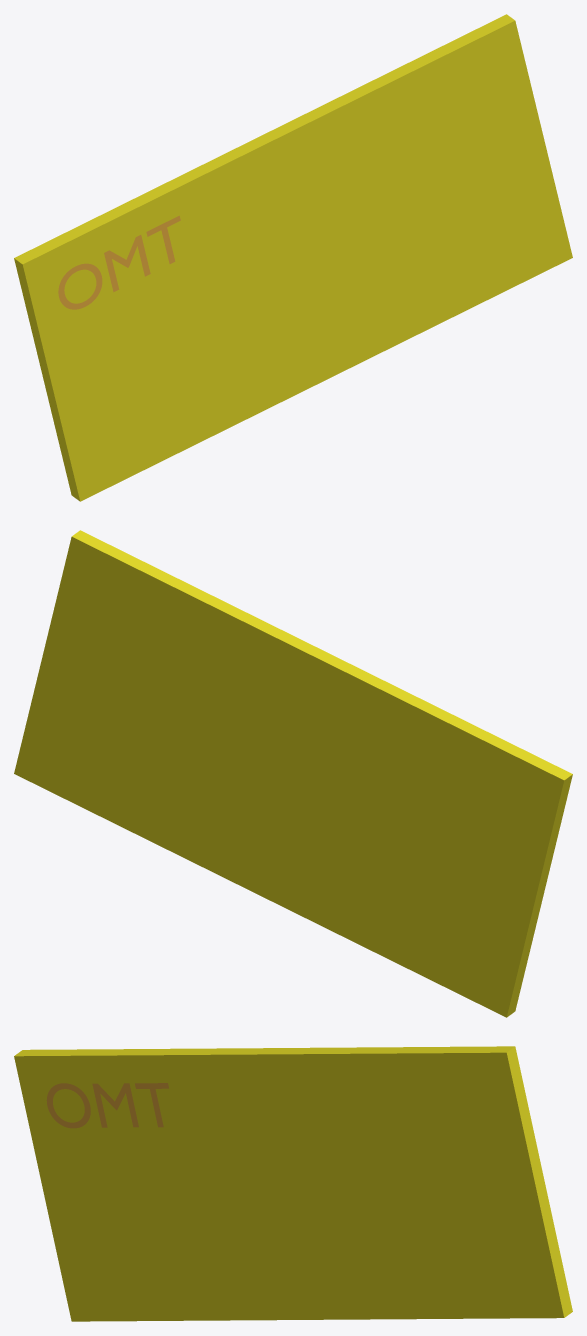
Rendered from omt-animation.glb.
3 renders of one model, top to bottom at view 1: azimuth 30°, elevation 25°; view 2: azimuth 150°, elevation 25°; view 3: azimuth 330°, elevation 25°, orthographic.
Visible parts, largest first — view 1: Plane, OMT; view 2: Plane; view 3: Plane, OMT.
Part boxes in pixels (box(x1,y1,x2,y2)): Plane: box(14, 14, 572, 501); OMT: box(58, 215, 180, 309); Plane: box(14, 530, 572, 1017); Plane: box(14, 1046, 572, 1321); OMT: box(46, 1083, 168, 1128).
Bounding box in the file's own units: 9.16 × 5.96 × 0.2923.
